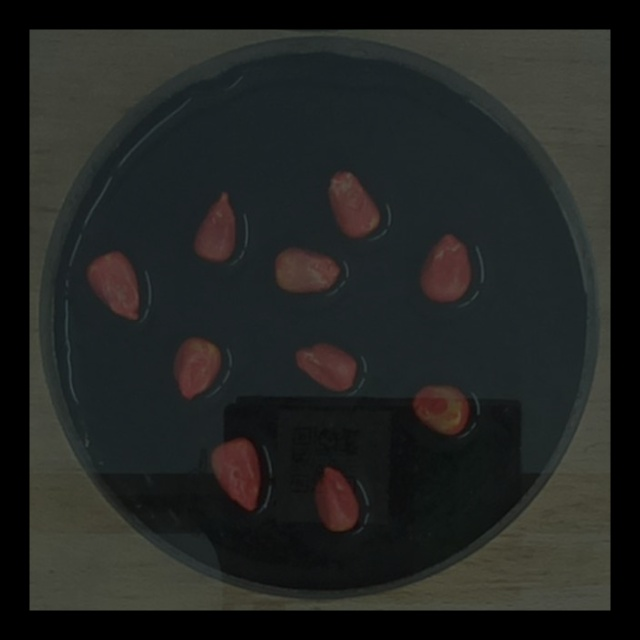Zea mays: (412, 223, 479, 308), (204, 428, 267, 517), (81, 243, 147, 327), (322, 162, 385, 244), (268, 239, 347, 300), (186, 182, 241, 269), (165, 330, 227, 406), (405, 377, 477, 442), (307, 457, 365, 537), (289, 333, 362, 396)
